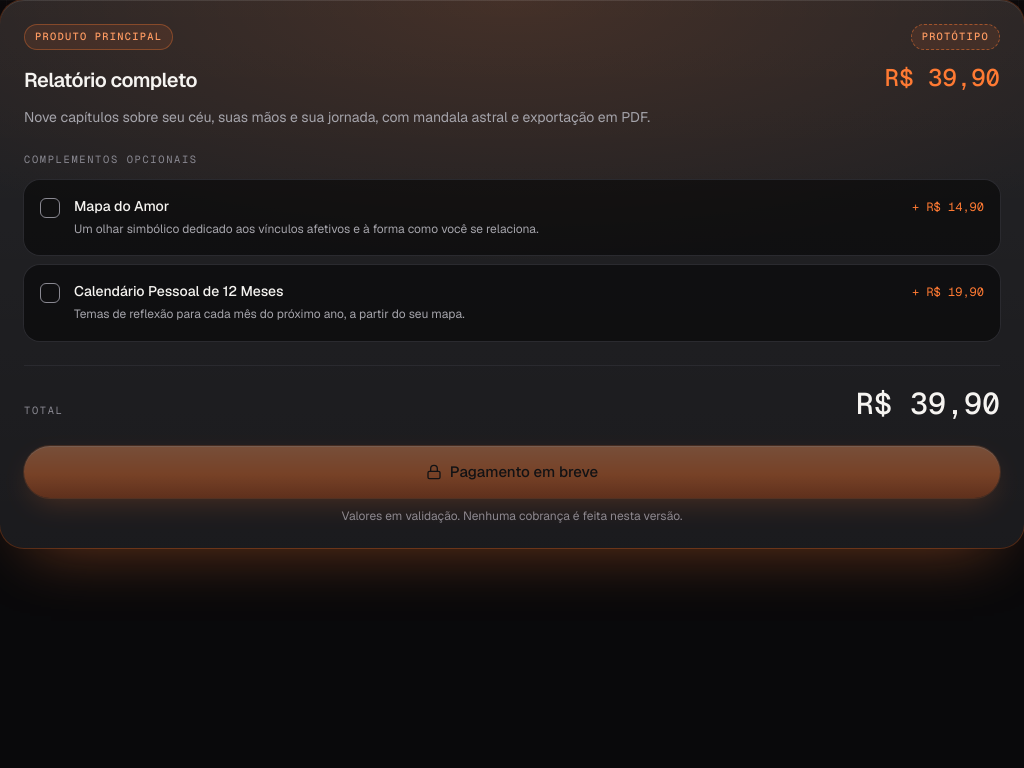
Test: OfferSummary › soma os complementos selecionados ao total
The image size is (1024, 768).
Check: the text with test id "offer-total" reads "R$ 39,90", box [856, 384, 1000, 423]
Click the checkbox labelled "Mapa do Amor": (122, 206) [24, 180, 1000, 256]
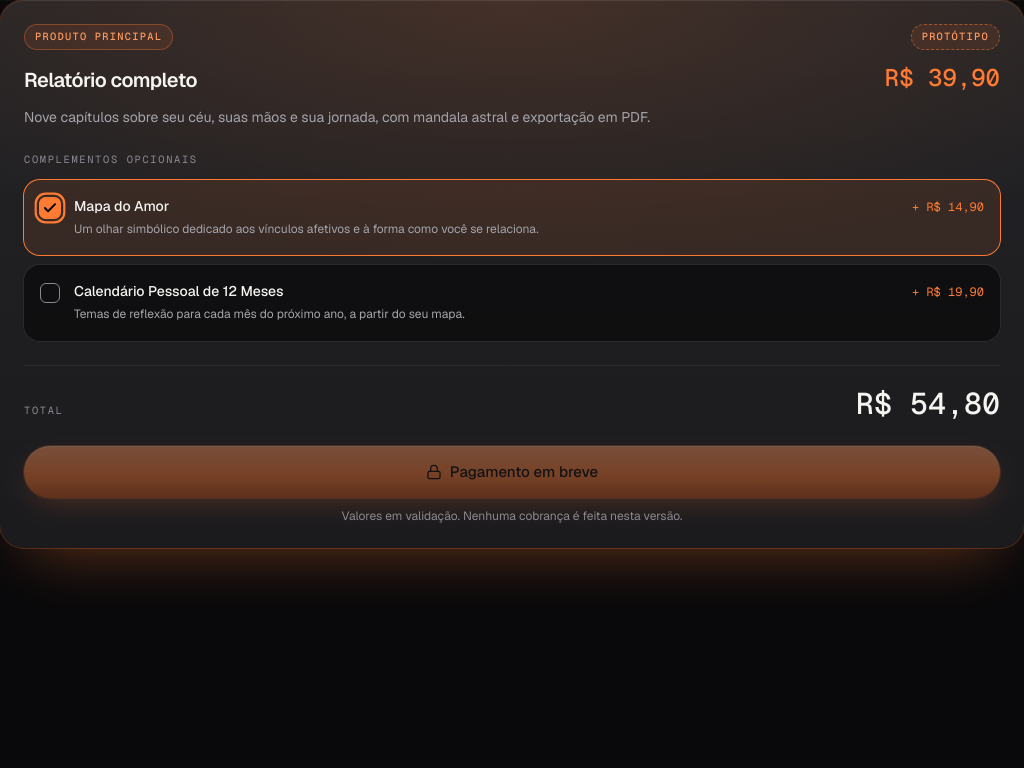
Check: the text with test id "offer-total" reads "R$ 54,80", box [856, 384, 1000, 423]
Click the checkbox labelled "Calendário Pessoal": (179, 291) [24, 266, 1000, 341]
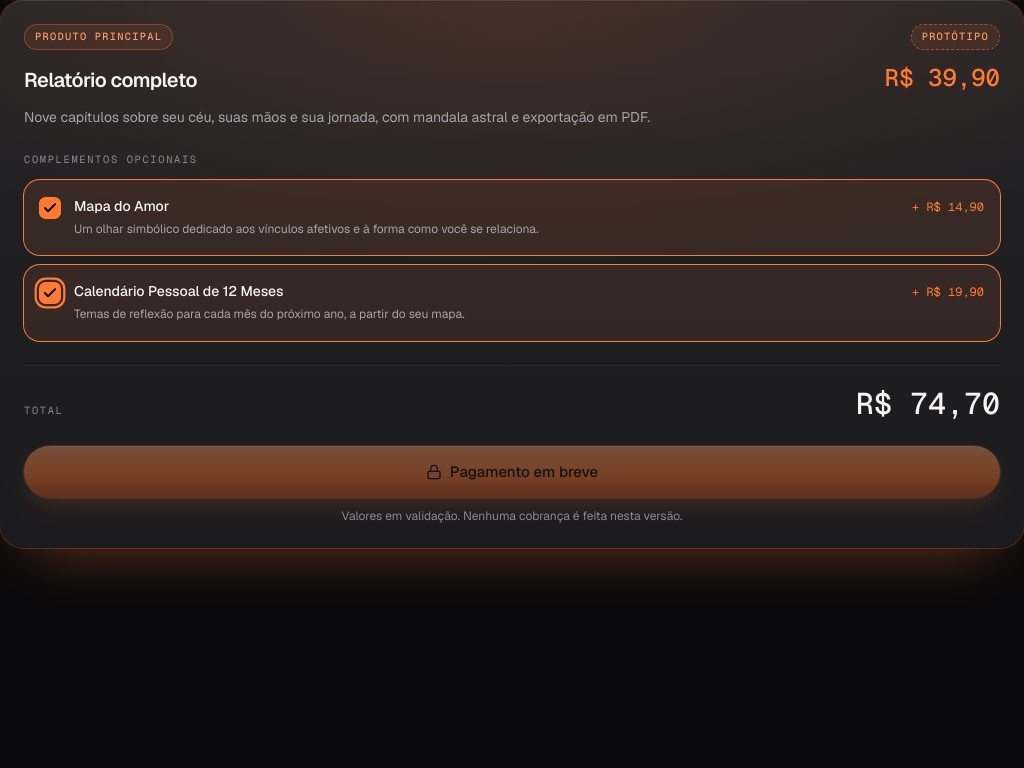
Check: the text with test id "offer-total" reads "R$ 74,70", box [856, 384, 1000, 423]
Click the checkbox labelled "Mapa do Amor": (122, 206) [24, 180, 1000, 256]
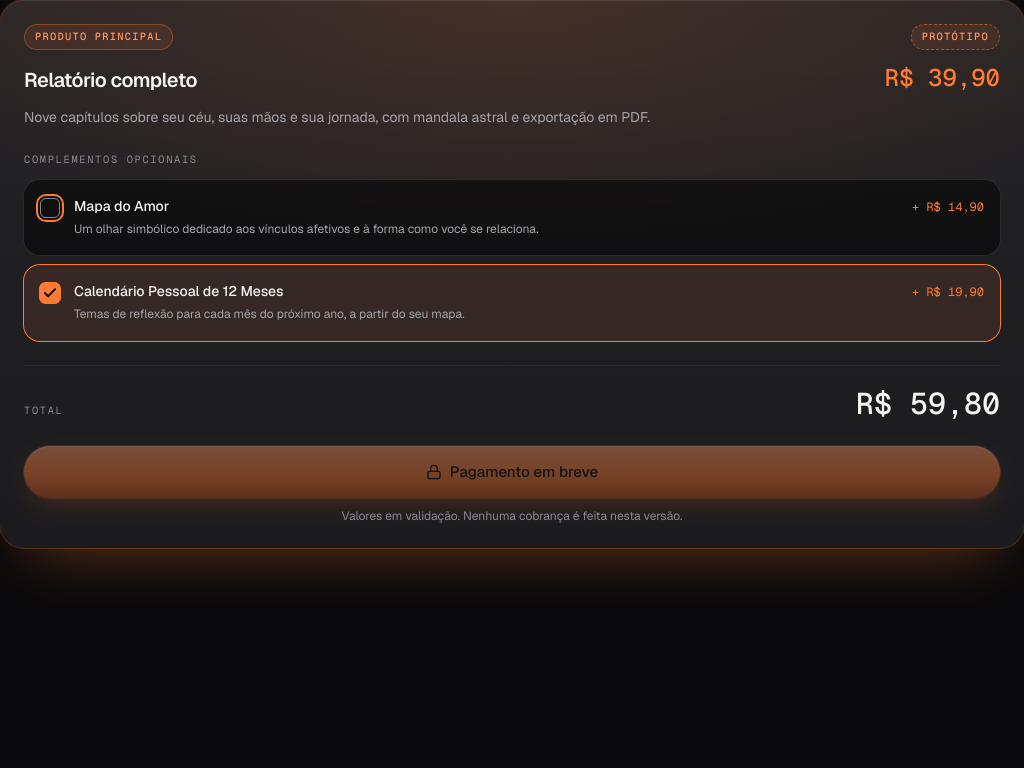
Check: the text with test id "offer-total" reads "R$ 59,80", box [856, 384, 1000, 423]
